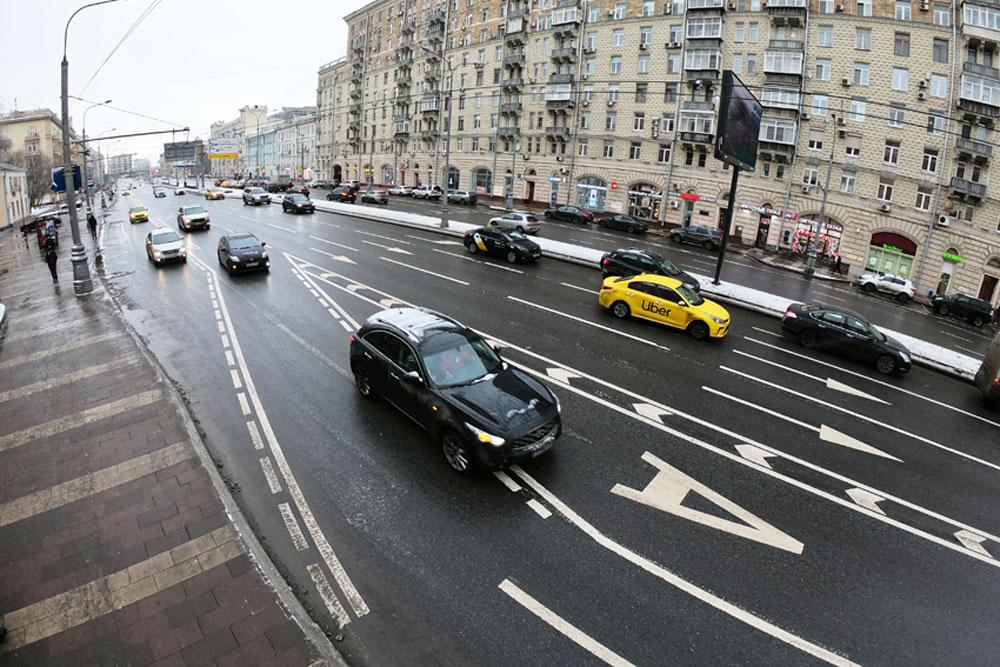bus_line: (297, 274, 999, 666)
